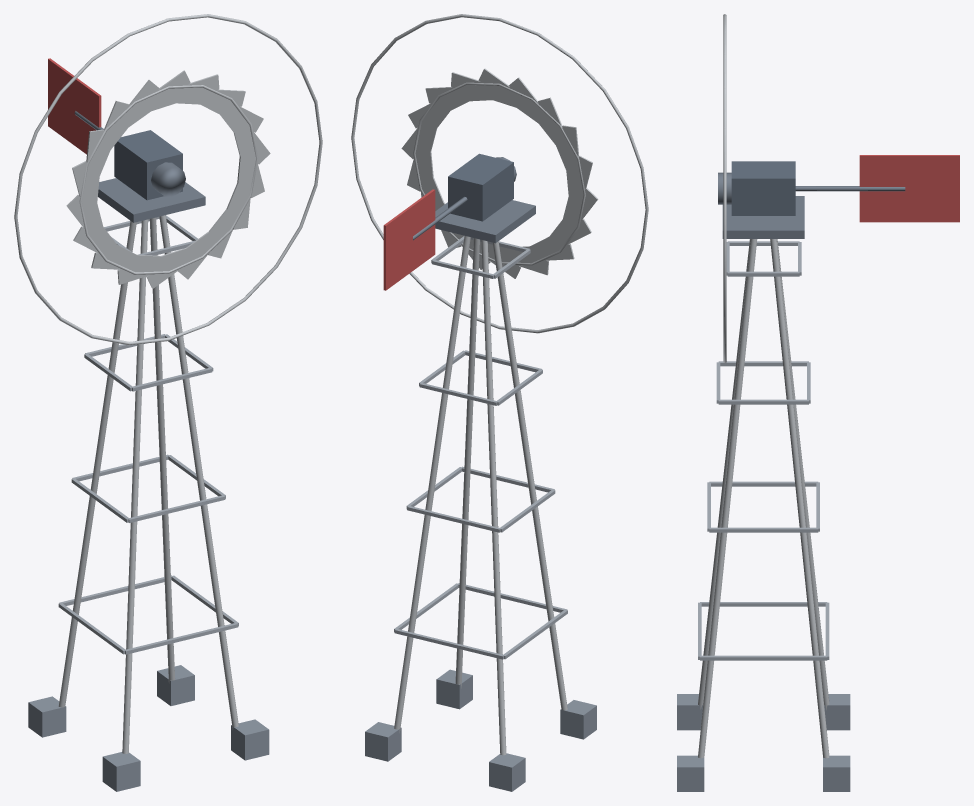
Rendered from farm-windmill.glb.
3 renders of one model, left to right at view 1: azimuth 30°, elevation 25°; view 2: azimuth 150°, elevation 25°; view 3: azimuth 270°, elevation 25°, orthographic. The views are drawn at different scales.
Parts seen in each view (by area): view 1: Root; view 2: Root; view 3: Root.
Part boxes in pixels (x1,y1,x2,y2): Root: (14, 14, 322, 791); Root: (351, 14, 648, 791); Root: (677, 14, 959, 791).
Size of the model in its own units: 7.68 by 17.54 by 6.2.
